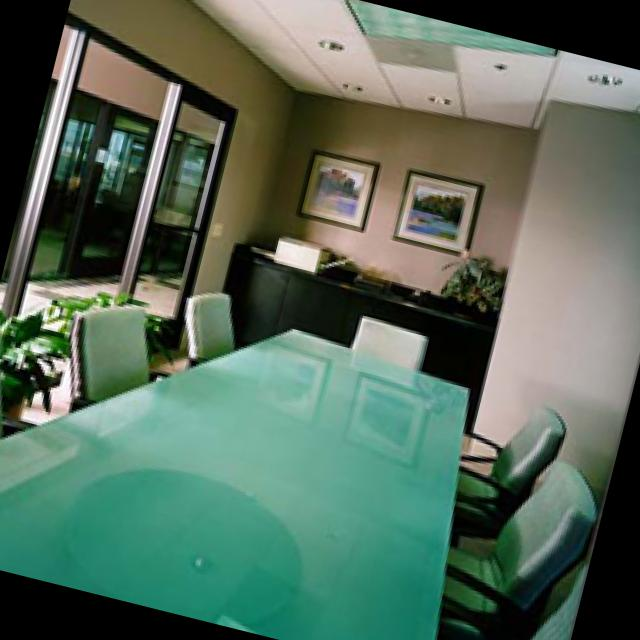Fire extinguisher: (77, 118, 129, 283)
